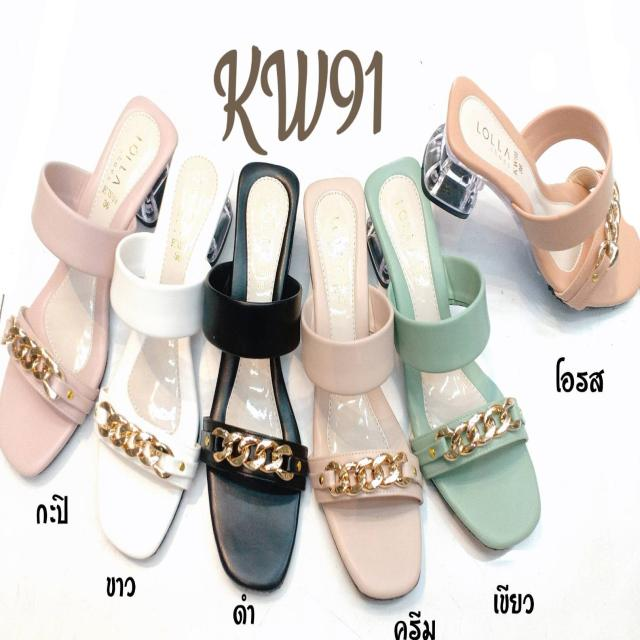black: (208, 155, 310, 590)
cream: (299, 173, 426, 595)
green: (363, 156, 542, 548)
kapi: (0, 90, 177, 473)
orot: (446, 90, 640, 314)
white: (96, 132, 229, 562)
